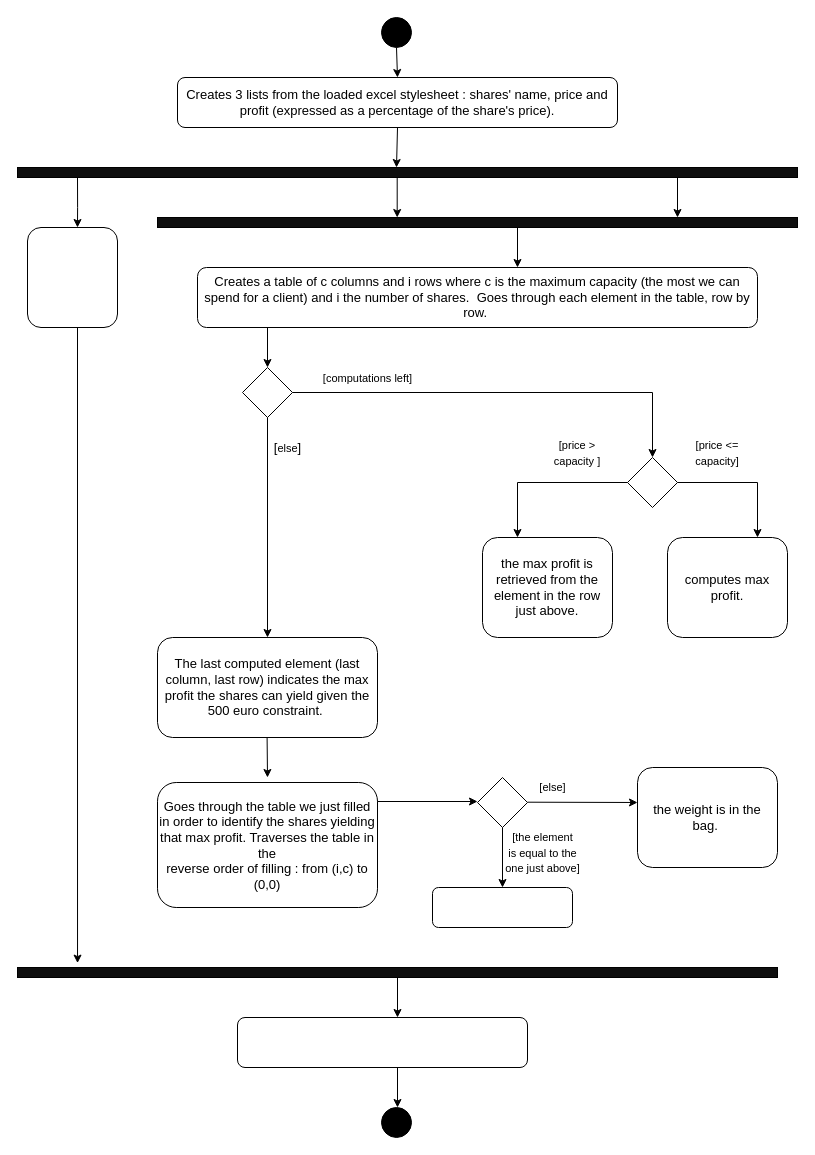
This 815x1155 diagram has some shape labels left out. Each missing label, with the centre of its shape:
Identifies the selected share's name given their prices.: (382,1042)
maps each price to the share's name.: (72,277)
the weight isn't in the bag: (502,907)
